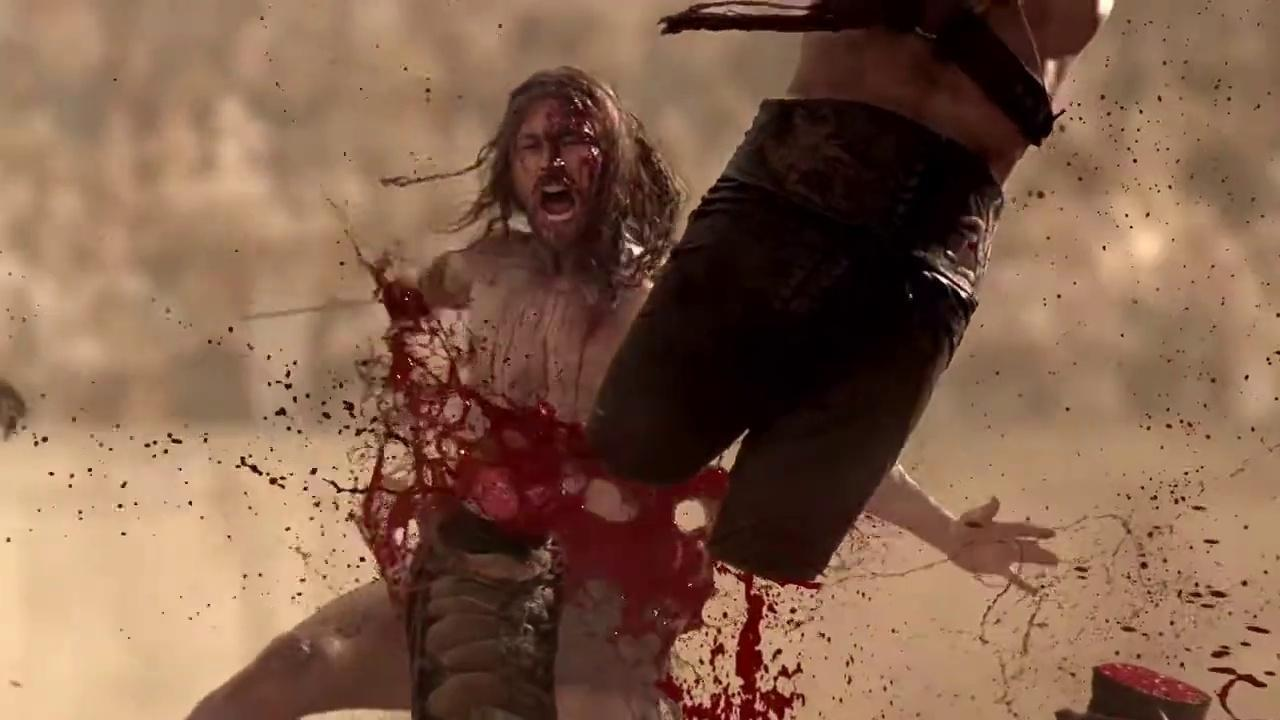Fire: (356, 248, 803, 720), (984, 475, 1280, 718)
